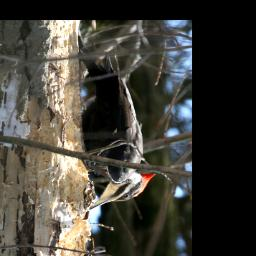Woodpecker: (80, 29, 157, 210)
